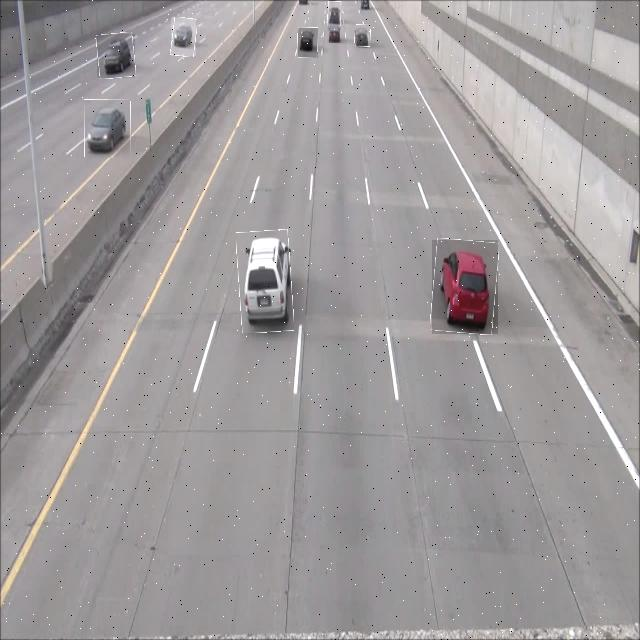Car: (432, 240, 498, 334), (237, 230, 293, 333), (84, 99, 131, 158), (97, 34, 135, 78), (171, 18, 196, 56), (298, 28, 318, 58), (355, 25, 371, 47), (326, 22, 342, 43), (328, 1, 341, 26)
